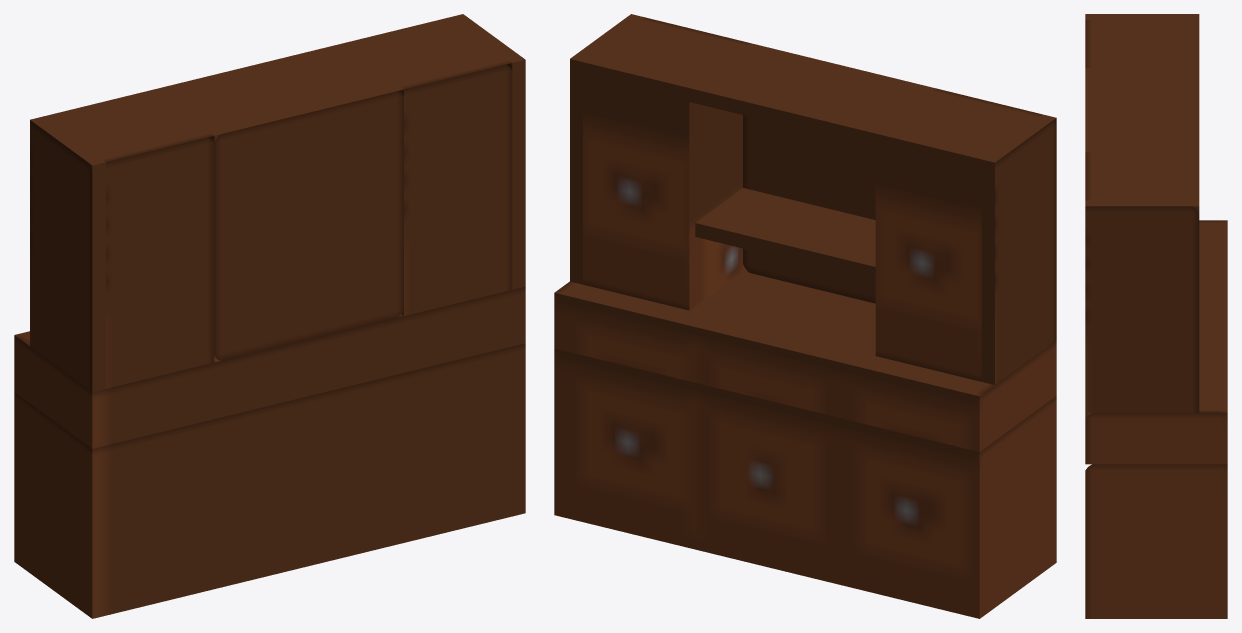
Rendered from arca.obj.
The picture shows the model from 3 angles, left to right: view 1: azimuth 30°, elevation 25°; view 2: azimuth 150°, elevation 25°; view 3: azimuth 270°, elevation 25°; orthographic projection. The views are drawn at different scales.
Visible parts, largest first — view 1: 3, 9, 2, 1, 4, 5, 8, 6; view 2: 3, 4, 2, 1, 5, 9, 8, 7, 6; view 3: 6, 3, 4, 8, 2, 1, 9, 5.
Boxes of the visible parts, <box> form: 3: <box>14,343,525,618</box>; 9: <box>207,84,403,362</box>; 2: <box>341,17,512,315</box>; 1: <box>44,90,214,388</box>; 4: <box>14,286,525,448</box>; 5: <box>30,116,105,391</box>; 8: <box>152,44,395,141</box>; 6: <box>450,14,525,289</box>; 3: <box>554,348,1056,618</box>; 4: <box>554,271,1056,451</box>; 2: <box>583,17,750,310</box>; 1: <box>875,88,1042,381</box>; 5: <box>981,114,1056,384</box>; 9: <box>743,43,936,303</box>; 8: <box>689,49,928,147</box>; 7: <box>695,188,875,280</box>; 6: <box>570,14,643,284</box>; 6: <box>1085,200,1199,412</box>; 3: <box>1085,412,1227,618</box>; 4: <box>1085,220,1227,464</box>; 8: <box>1099,68,1199,152</box>; 2: <box>1085,152,1199,200</box>; 1: <box>1085,20,1199,67</box>; 9: <box>1085,68,1099,152</box>; 5: <box>1085,14,1199,19</box>.
Size of the model in its own units: 2 by 2 by 0.625.
